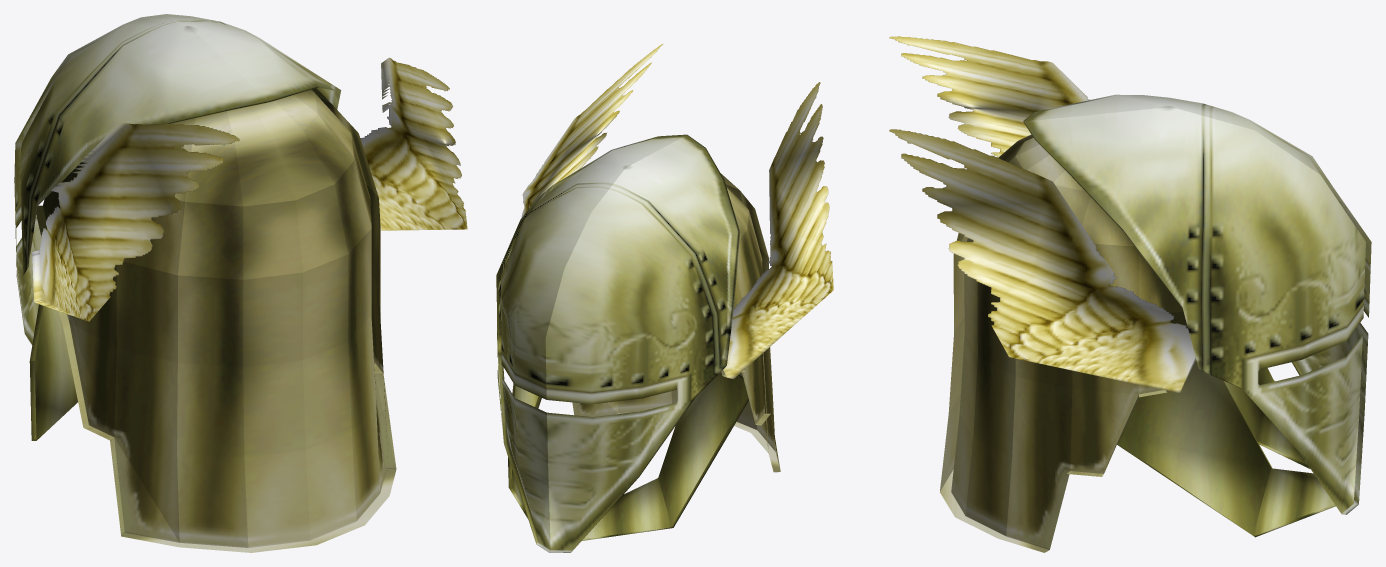
3 views of the same model, side by side, from view 1: azimuth 30°, elevation 25°; view 2: azimuth 150°, elevation 25°; view 3: azimuth 270°, elevation 25° (orthographic). The views are drawn at different scales.
Parts seen in each view (by area): view 1: it626; view 2: it626; view 3: it626.
Part boxes in pixels (box(x1,y1,x2,y2)): it626: box(14, 14, 467, 552); it626: box(496, 44, 833, 552); it626: box(889, 36, 1371, 552).
Bounding box in the file's own units: 0.8201 × 1.03 × 1.06.
4 materials, 4 textured.
